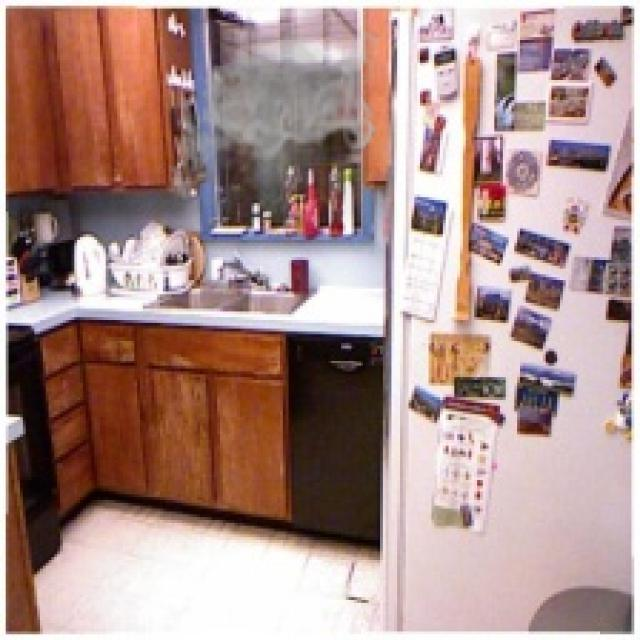smoke: (163, 20, 380, 223)
